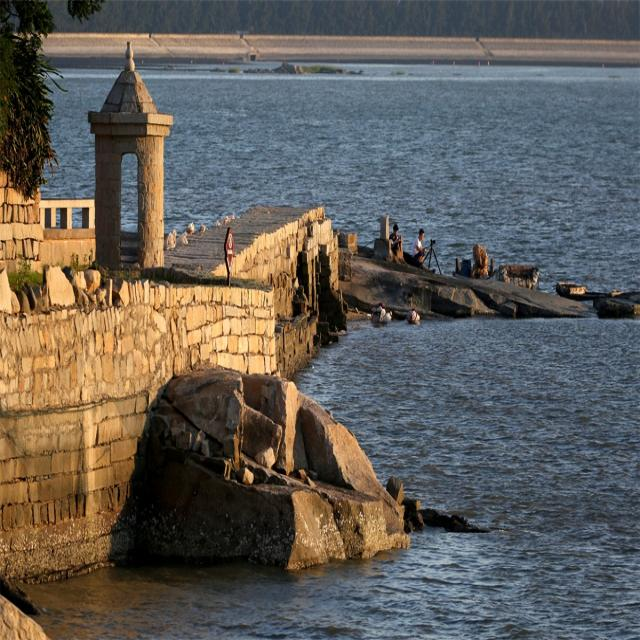reef: (224, 387, 516, 606)
